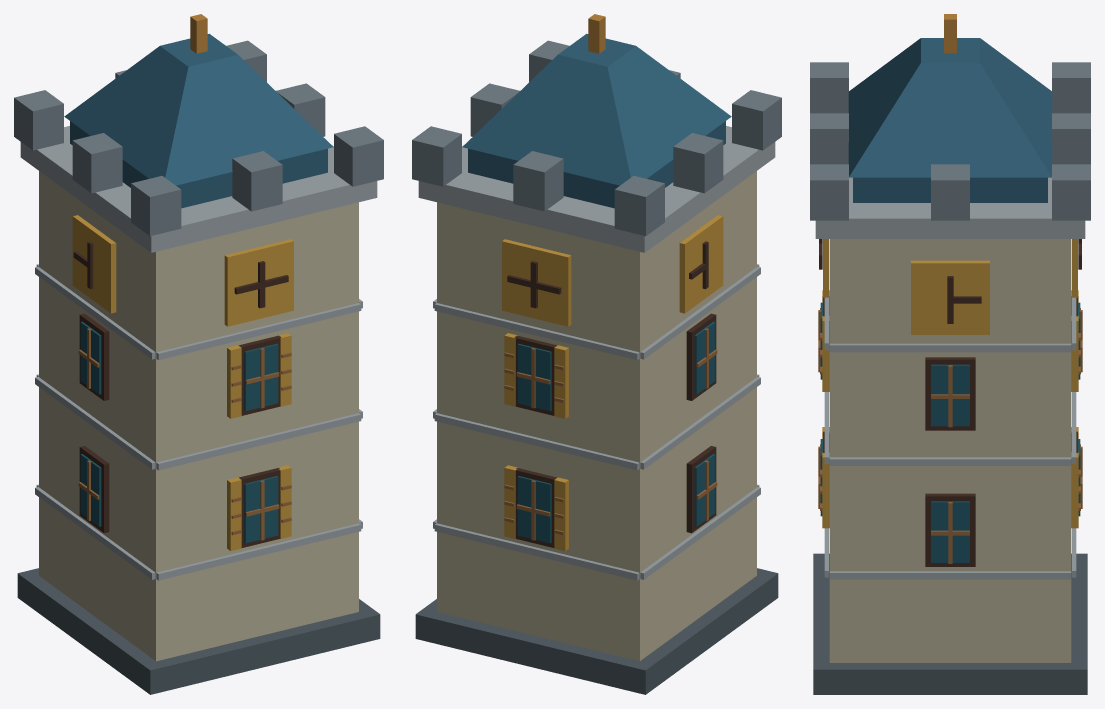
Rendered from Blockland_CourtyardTower_Showcase.glb.
The picture shows the model from 3 angles, left to right: view 1: azimuth 30°, elevation 25°; view 2: azimuth 150°, elevation 25°; view 3: azimuth 270°, elevation 25°; orthographic projection. The views are drawn at different scales.
Visible parts, largest first — view 1: Blockland_CourtyardTower_Showcase; view 2: Blockland_CourtyardTower_Showcase; view 3: Blockland_CourtyardTower_Showcase.
Part boxes in pixels (x1,y1,x2,y2): Blockland_CourtyardTower_Showcase: (14,14,383,694); Blockland_CourtyardTower_Showcase: (412,14,781,694); Blockland_CourtyardTower_Showcase: (810,14,1090,694).
Bounding box in the file's own units: 3 × 7.36 × 3.02.
